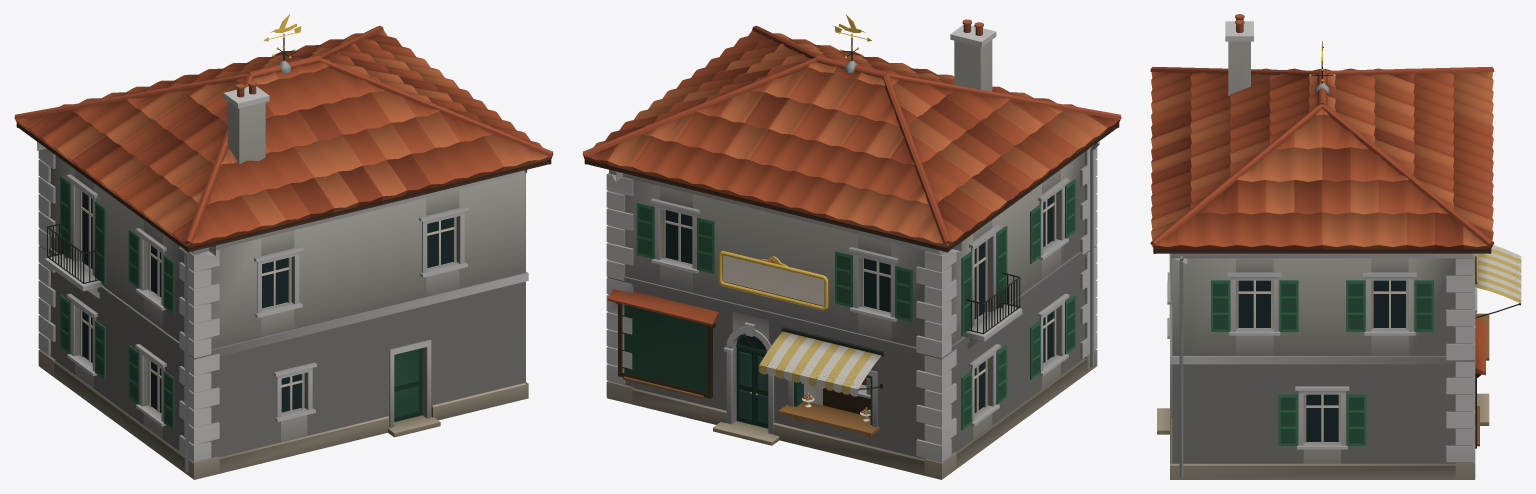
File: pav_cafe.glb
3 renders of one model, left to right at view 1: azimuth 30°, elevation 25°; view 2: azimuth 150°, elevation 25°; view 3: azimuth 270°, elevation 25°, orthographic.
Visible parts, largest first — view 1: static_cafe; view 2: static_cafe; view 3: static_cafe.
Boxes of the visible parts, x1,y1,x2,y2 form: static_cafe: (14,25,553,479); static_cafe: (582,19,1121,479); static_cafe: (1150,14,1521,479).
Bounding box in the file's own units: 11.2 × 10.61 × 9.88.
